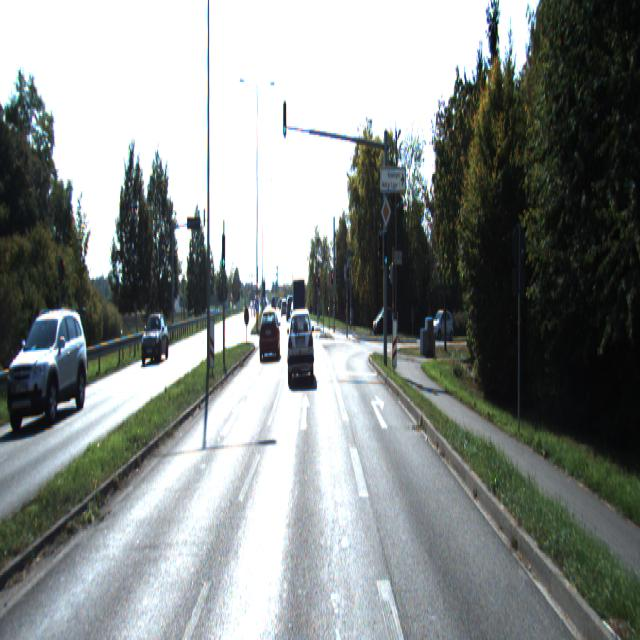Car: (7, 313, 87, 431), (287, 314, 314, 386), (141, 316, 169, 367), (259, 307, 281, 360), (292, 276, 306, 335)
